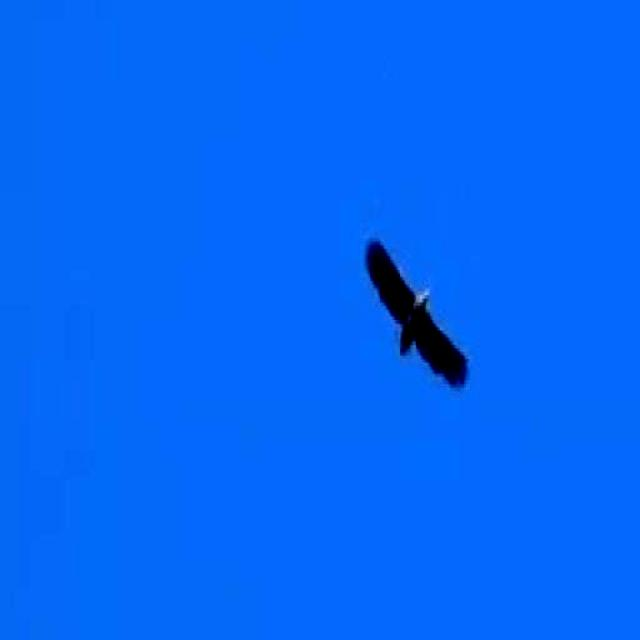airplane: (358, 218, 481, 421)
